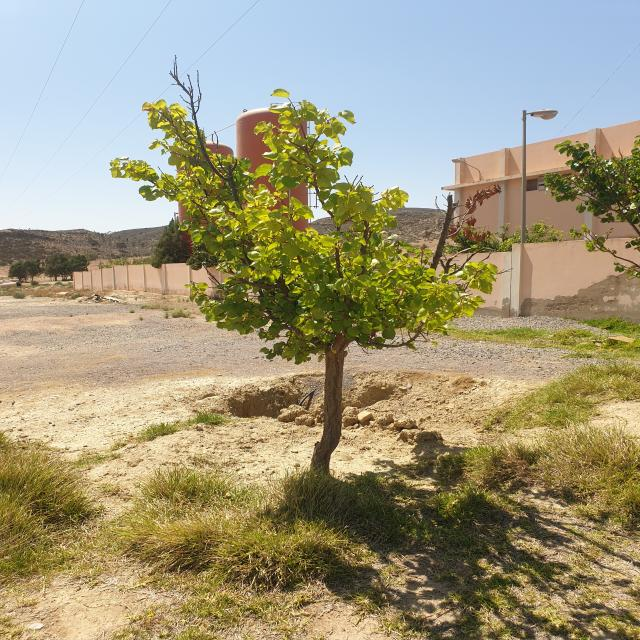Tree: (110, 64, 497, 474)
